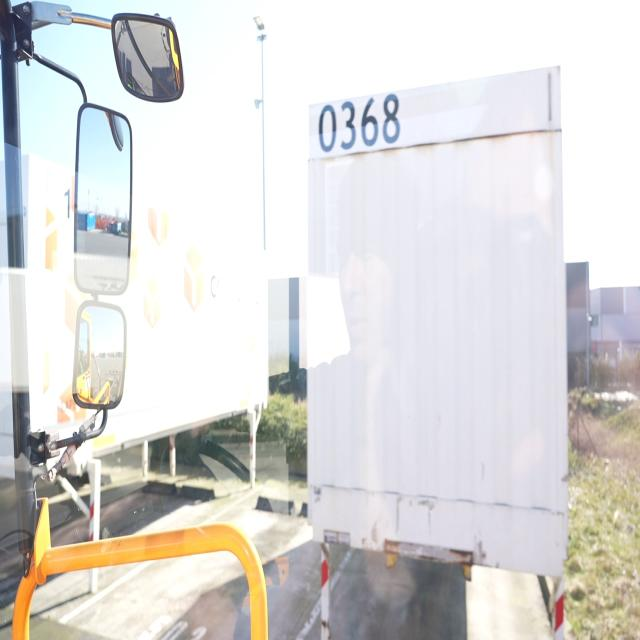Code: (316, 92, 402, 155)
